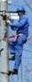gloves: (24, 41, 32, 82), (25, 55, 32, 82)
hard-hat: (0, 0, 32, 82)
ppe-suit: (24, 0, 32, 33)
